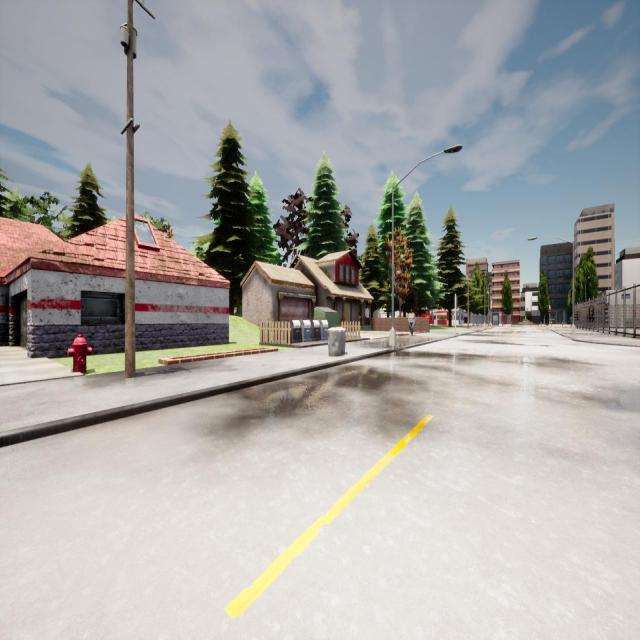Pedestrian: (408, 309, 415, 335), (569, 316, 573, 326)
traffic_light: (456, 297, 458, 309), (549, 307, 551, 313)
